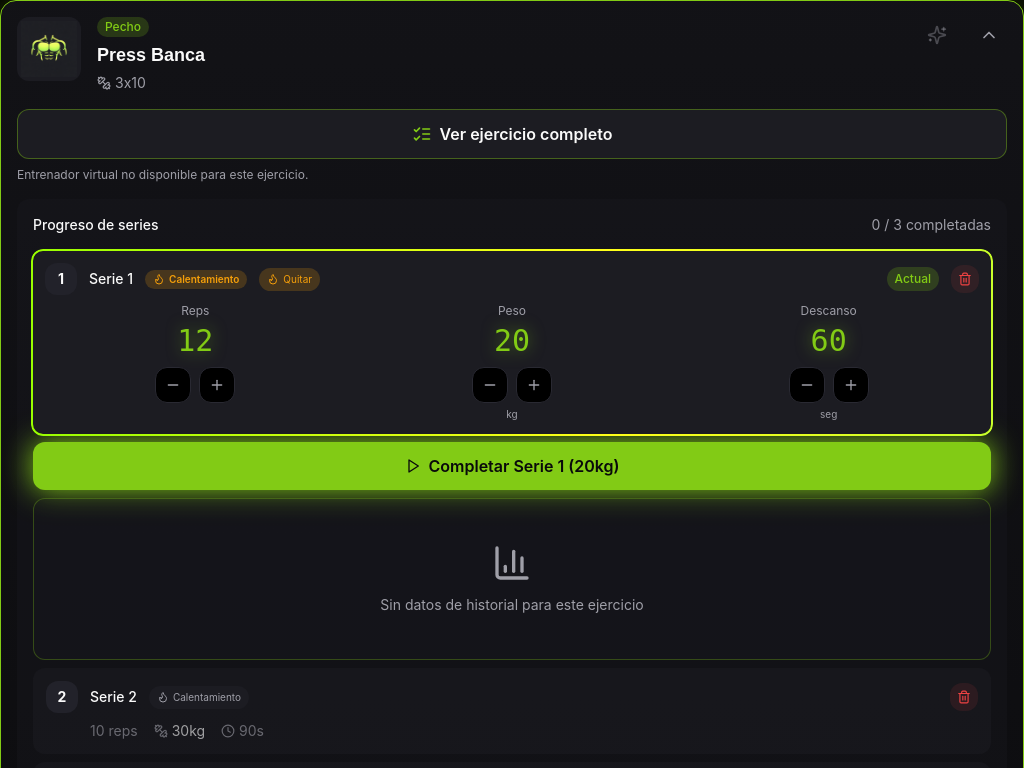
Test case: vista del ejercicio completo durante la ejecución › activo: el botón sigue visible y abre la vista con la ficha contraída
// Contraer la ficha pulsando la cabecera (el nombre del ejercicio)
Click the heading "Press Banca".
click(151, 55)  # box left=97, top=45, right=205, bottom=65
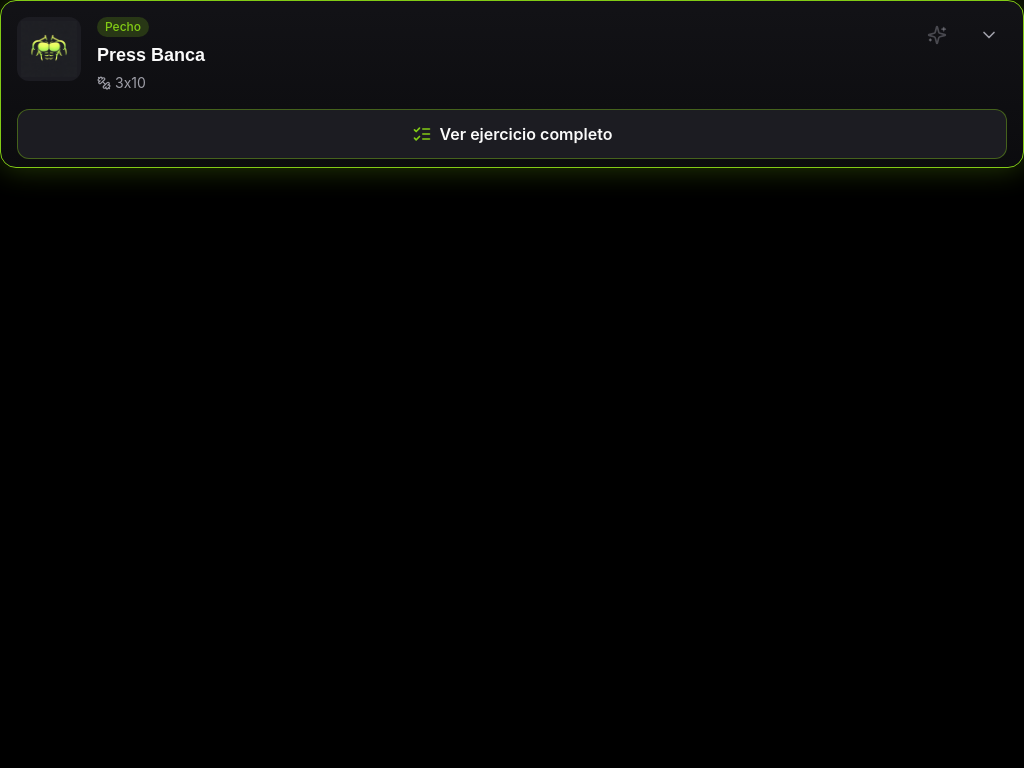
// El botón permanece visible fuera del contenido expandido
Click the button "Ver ejercicio completo".
click(512, 134)  # box left=17, top=109, right=1007, bottom=159
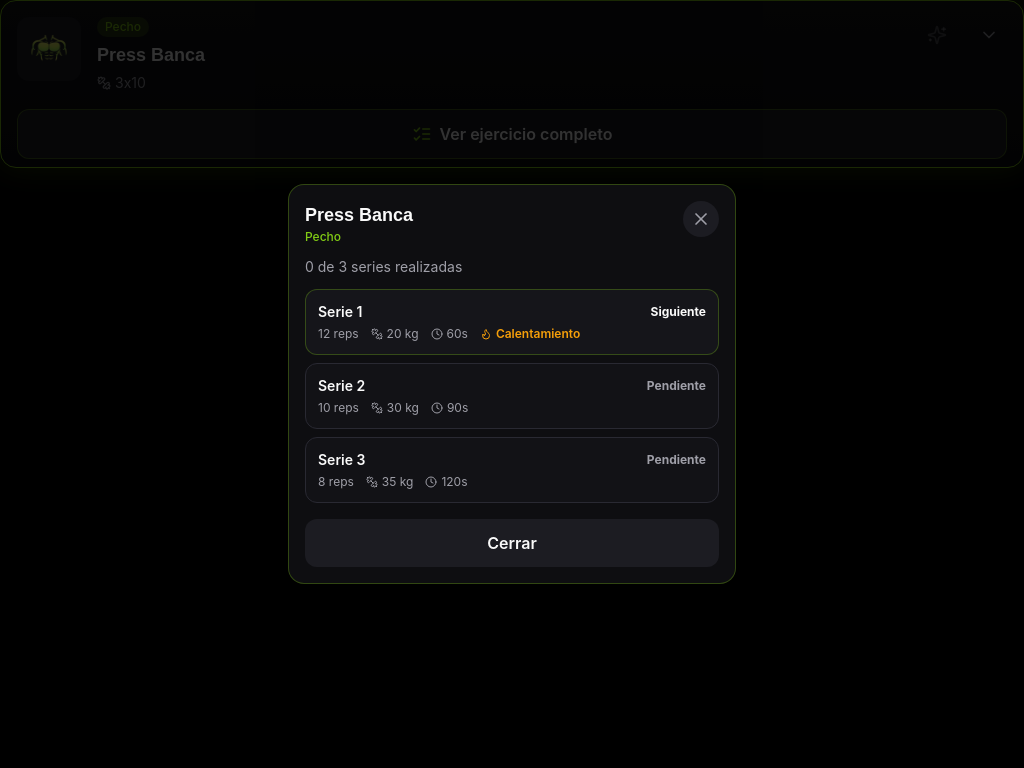
Check: the text "0 de 3 series realizadas" is shown, box left=305, top=258, right=462, bottom=275
Check: the element with test id "plan-set-1" shows "Siguiente", box left=650, top=304, right=706, bottom=319
